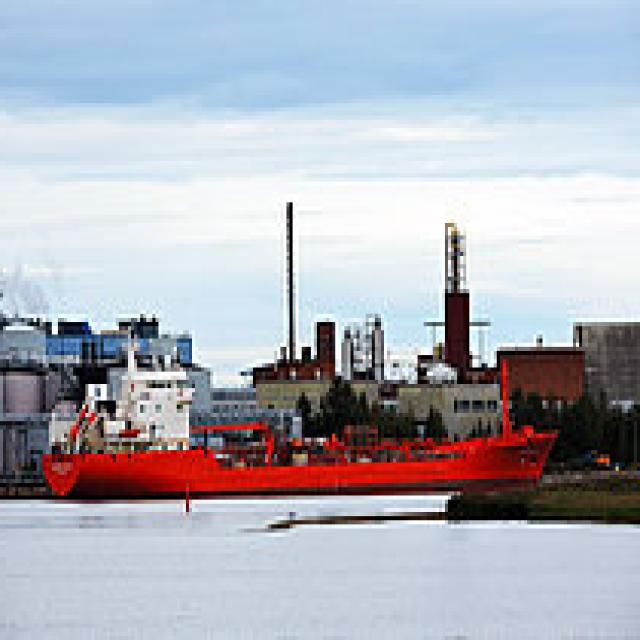Tanker: (43, 322, 570, 496)
